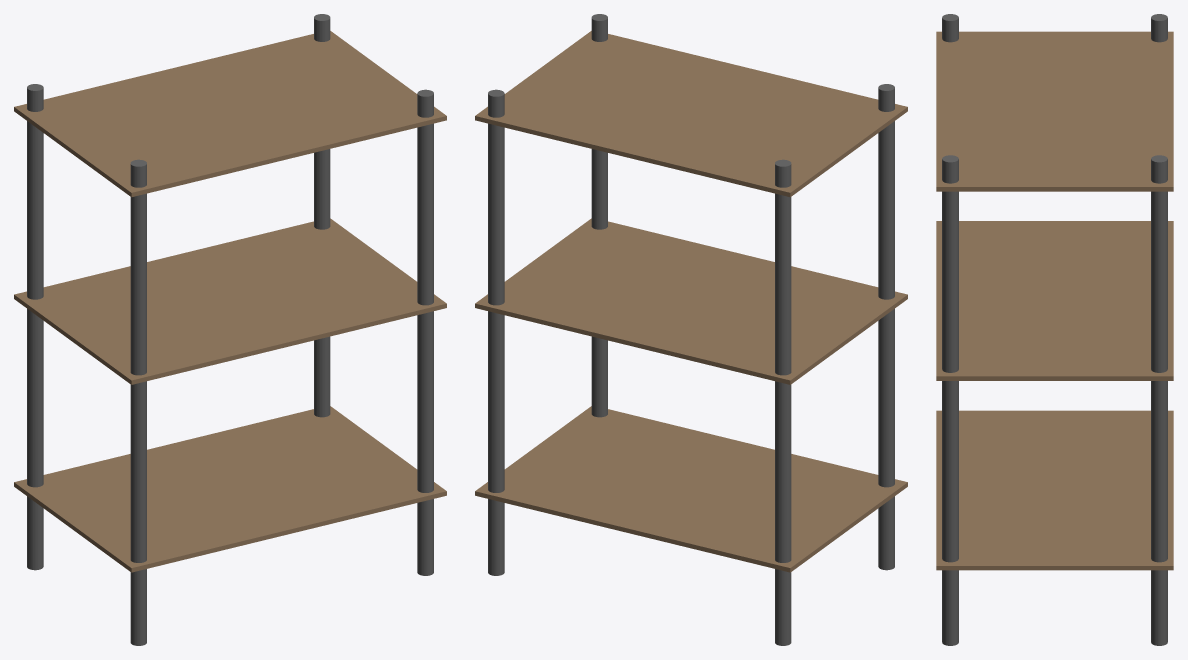
Rendered from industrialshelf.fbx.
The picture shows the model from 3 angles, left to right: view 1: azimuth 30°, elevation 25°; view 2: azimuth 150°, elevation 25°; view 3: azimuth 270°, elevation 25°; orthographic projection.
Parts seen in each view (by area): view 1: Cube.001, Cube.002, Cylinder.003; view 2: Cube.001, Cube.002, Cylinder.003; view 3: Cube.001, Cube.002, Cylinder.003.
Part boxes in pixels (<box>): Cube.001: <box>14,218,446,572</box>; Cube.002: <box>14,31,446,197</box>; Cylinder.003: <box>27,14,433,645</box>; Cube.001: <box>475,218,907,572</box>; Cube.002: <box>475,31,907,197</box>; Cylinder.003: <box>488,14,894,645</box>; Cube.001: <box>936,221,1173,570</box>; Cube.002: <box>936,31,1173,191</box>; Cylinder.003: <box>942,14,1167,645</box>.
Bounding box in the file's own units: 1759 × 2554 × 1135.
